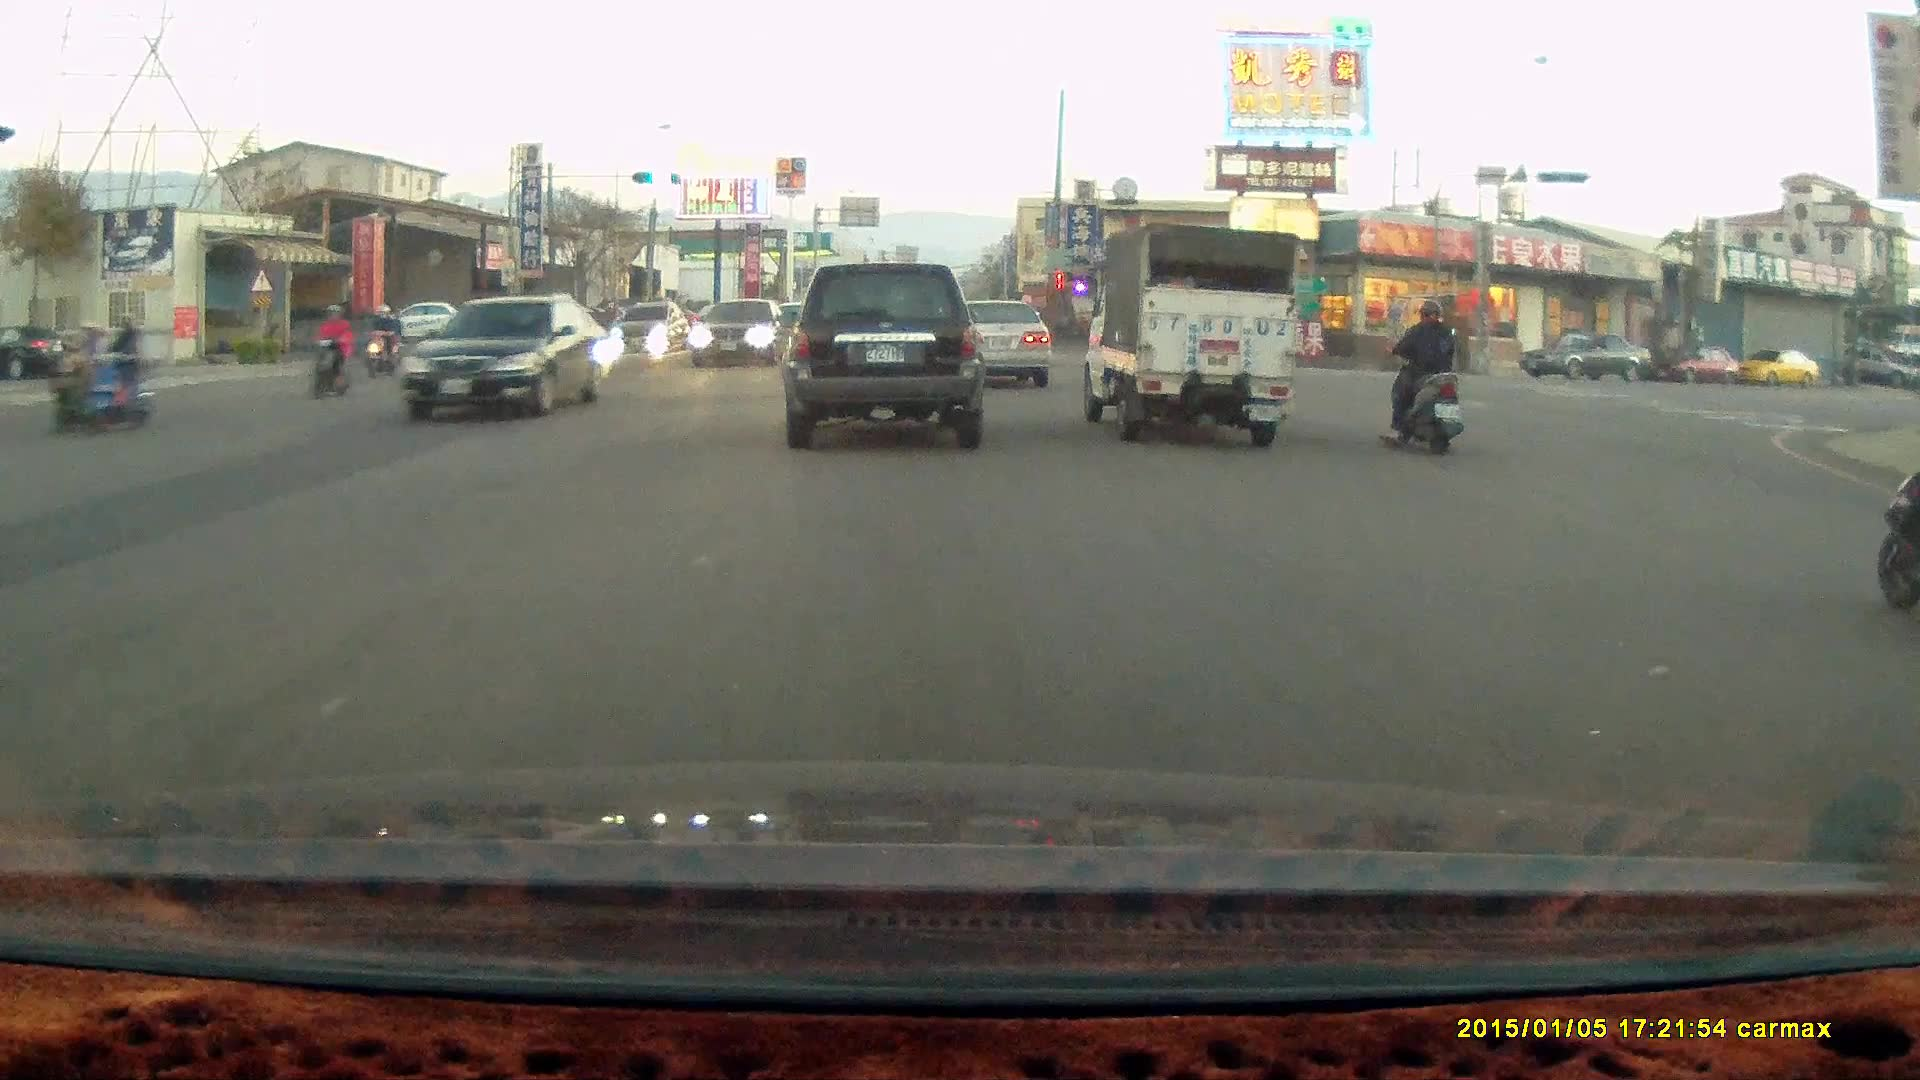rider: (1380, 293, 1463, 453), (68, 314, 149, 428), (1871, 440, 1920, 609), (43, 315, 111, 426), (309, 304, 356, 400), (364, 300, 405, 376)
vehicle: (1071, 221, 1298, 447), (779, 258, 986, 451), (402, 293, 614, 424), (934, 294, 1050, 388), (950, 297, 1055, 390), (689, 297, 793, 369), (1518, 329, 1656, 380), (382, 296, 483, 342), (1655, 343, 1744, 388), (1735, 348, 1822, 388)
